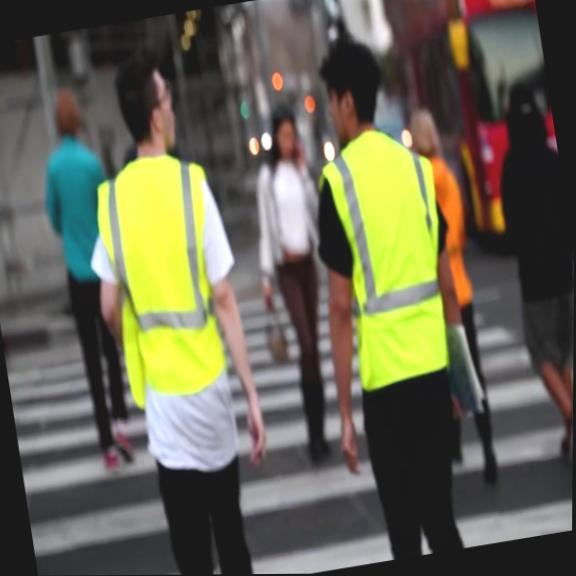safety_vest: (308, 116, 466, 394), (86, 146, 238, 410)
